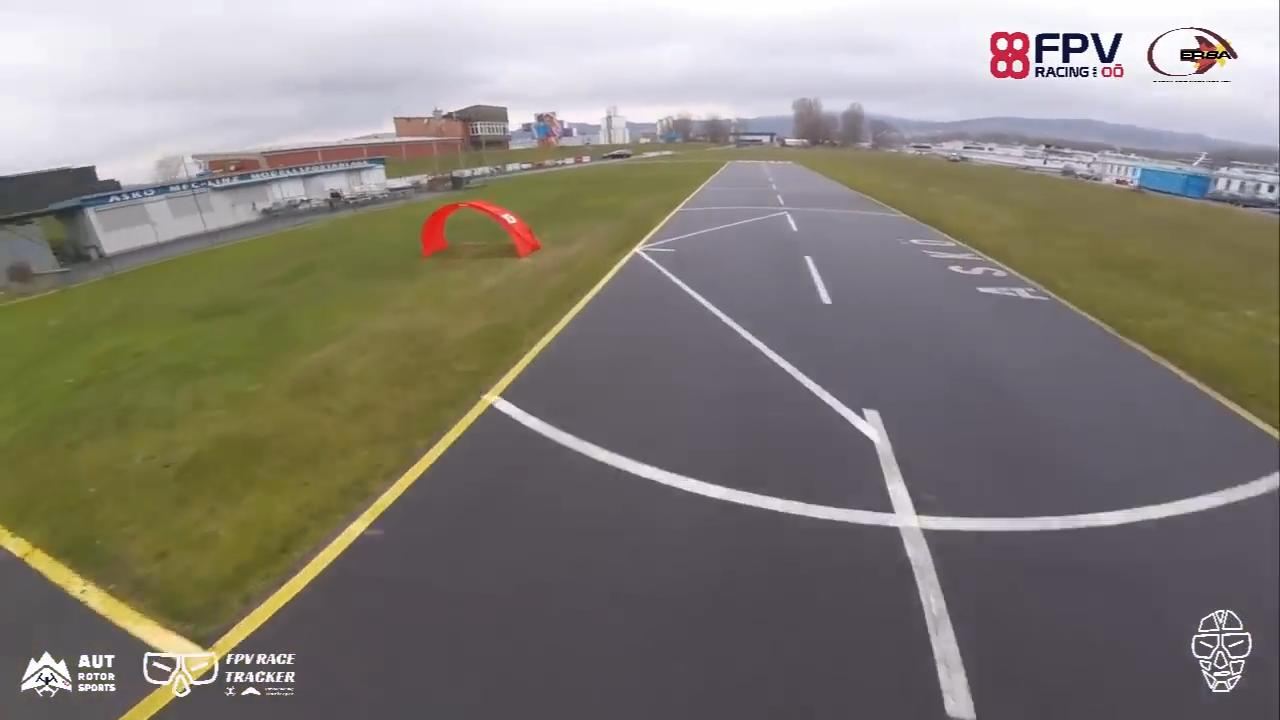gate: (418, 199, 540, 258)
